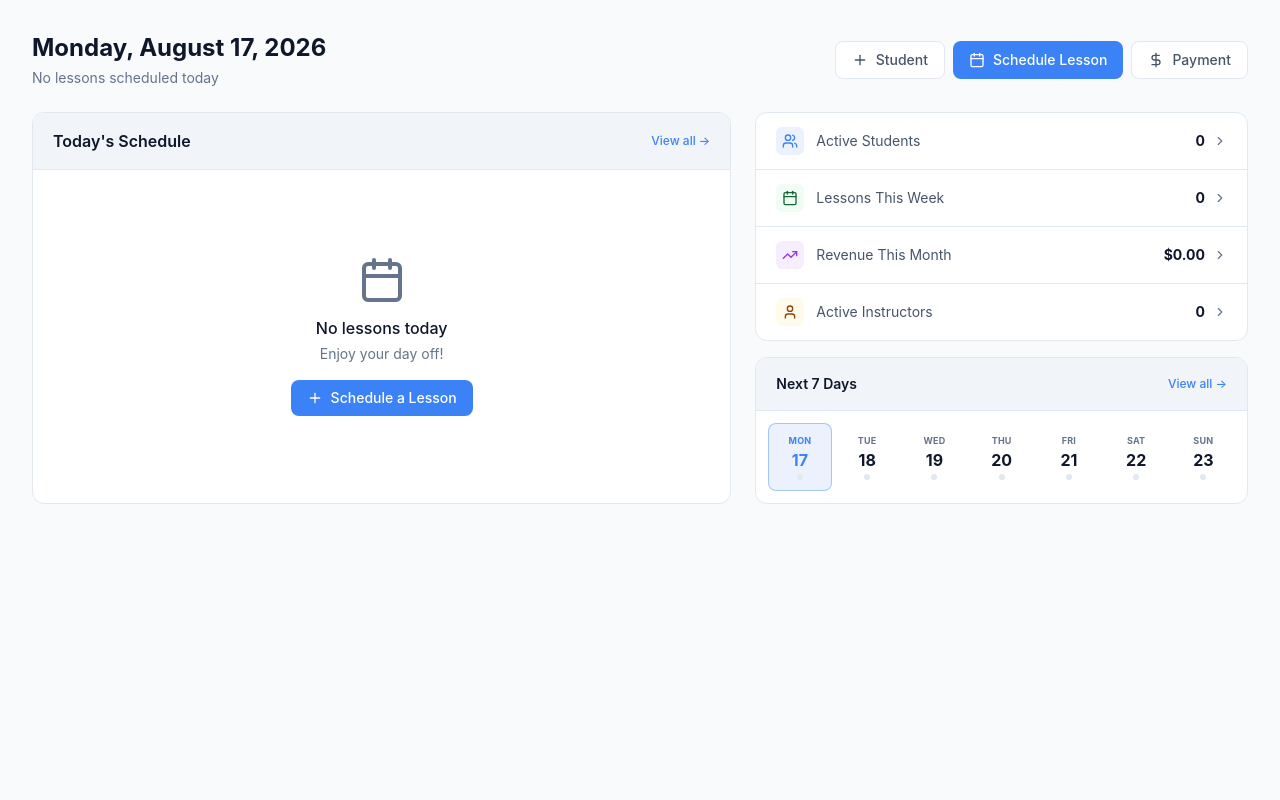
it: Dashboard - Book Lesson opens in place (regression: previously navigated to /lessons) › the empty-state "Schedule a Lesson" CTA also opens the modal in place
Click the button "Schedule a Lesson" at {"x": 382, "y": 398}, box [291, 380, 473, 416]
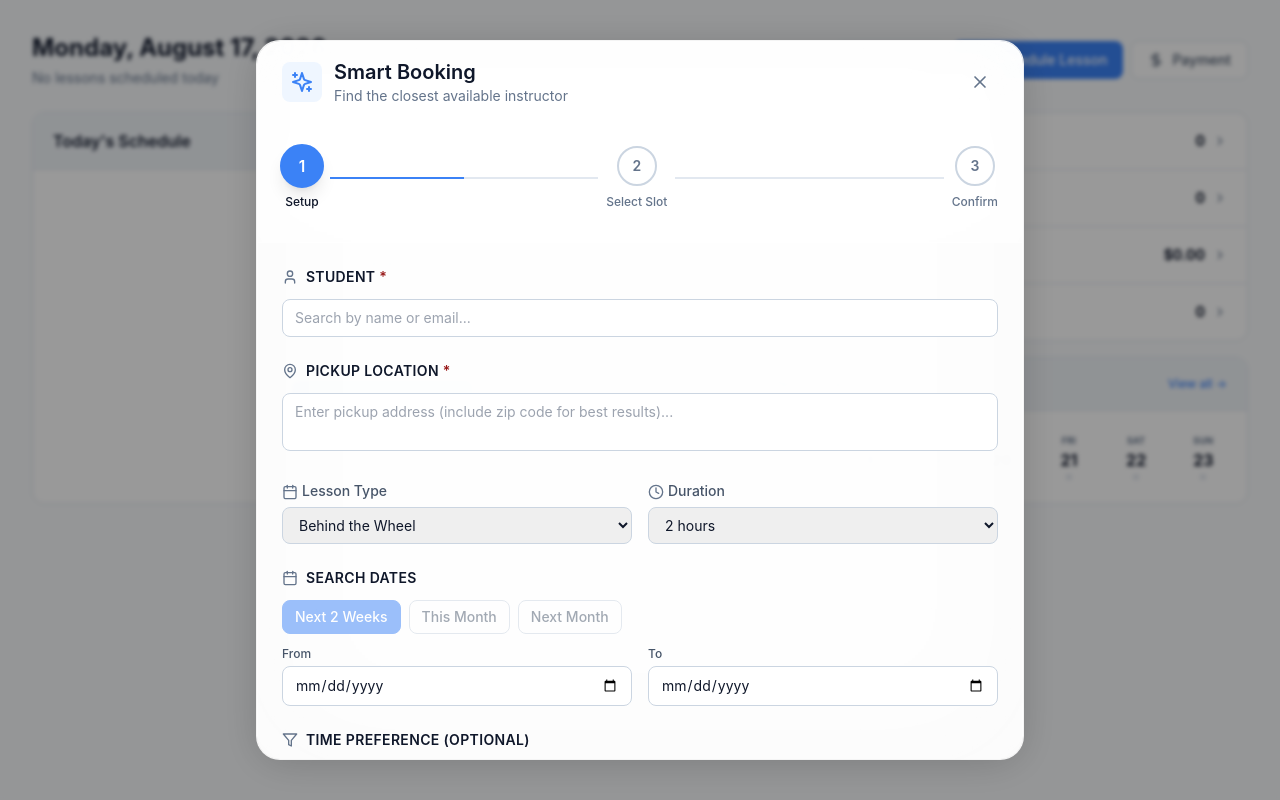
Expected: the heading "Smart Booking" is shown, [334, 60, 476, 84]
